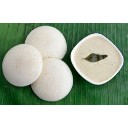idly: (2, 45, 41, 85), (36, 57, 72, 100), (26, 26, 66, 59)
